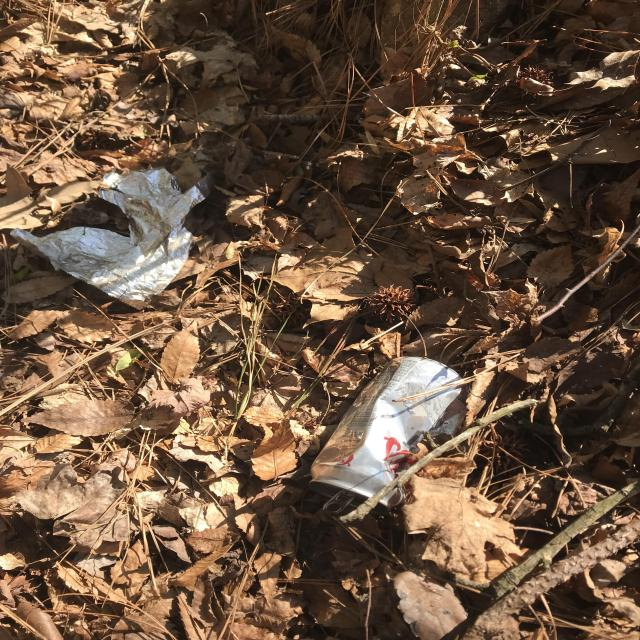litter: (282, 336, 499, 548), (15, 158, 230, 316)
